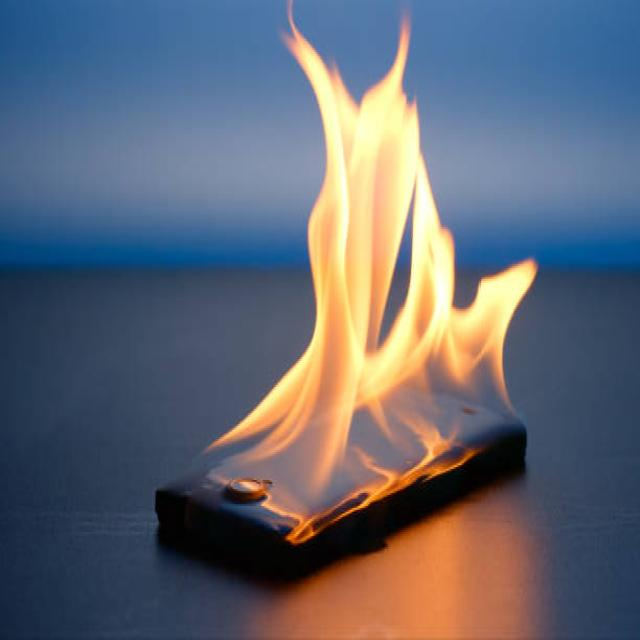fire: (200, 7, 544, 553)
